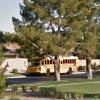Tree: (15, 2, 100, 68)
